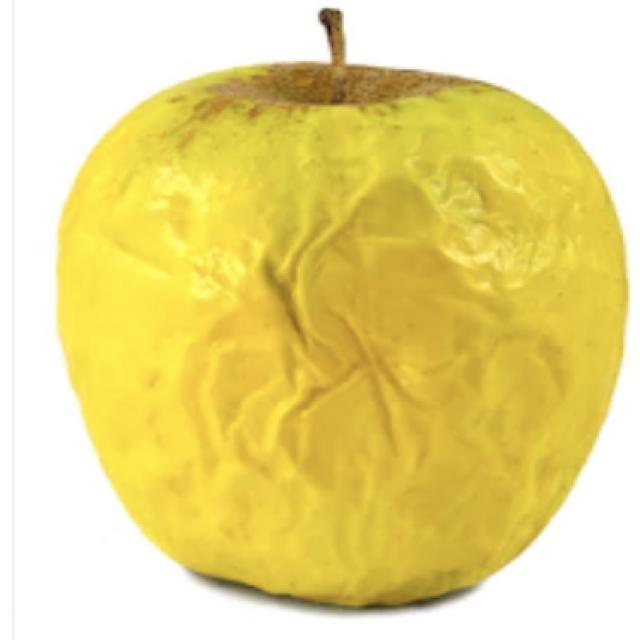Rotten: (48, 54, 630, 614)
